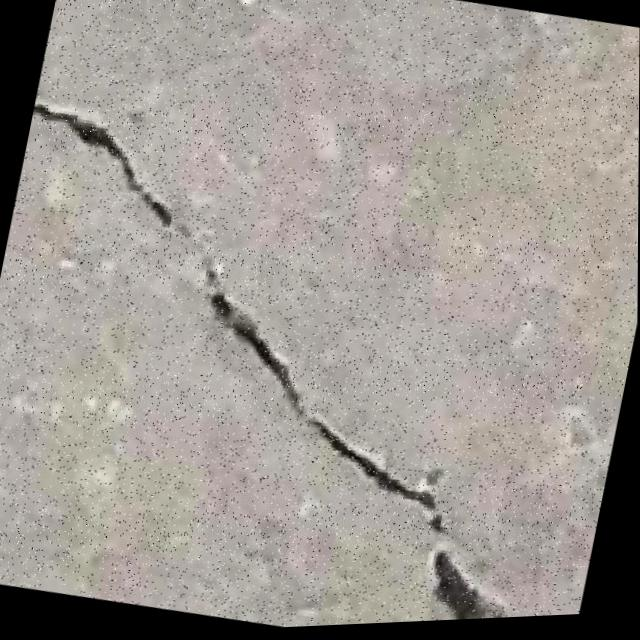Crack: (0, 71, 613, 640)
